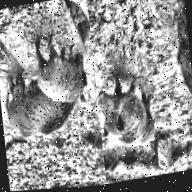boar: (95, 74, 164, 166), (20, 31, 95, 113), (0, 72, 70, 152)
